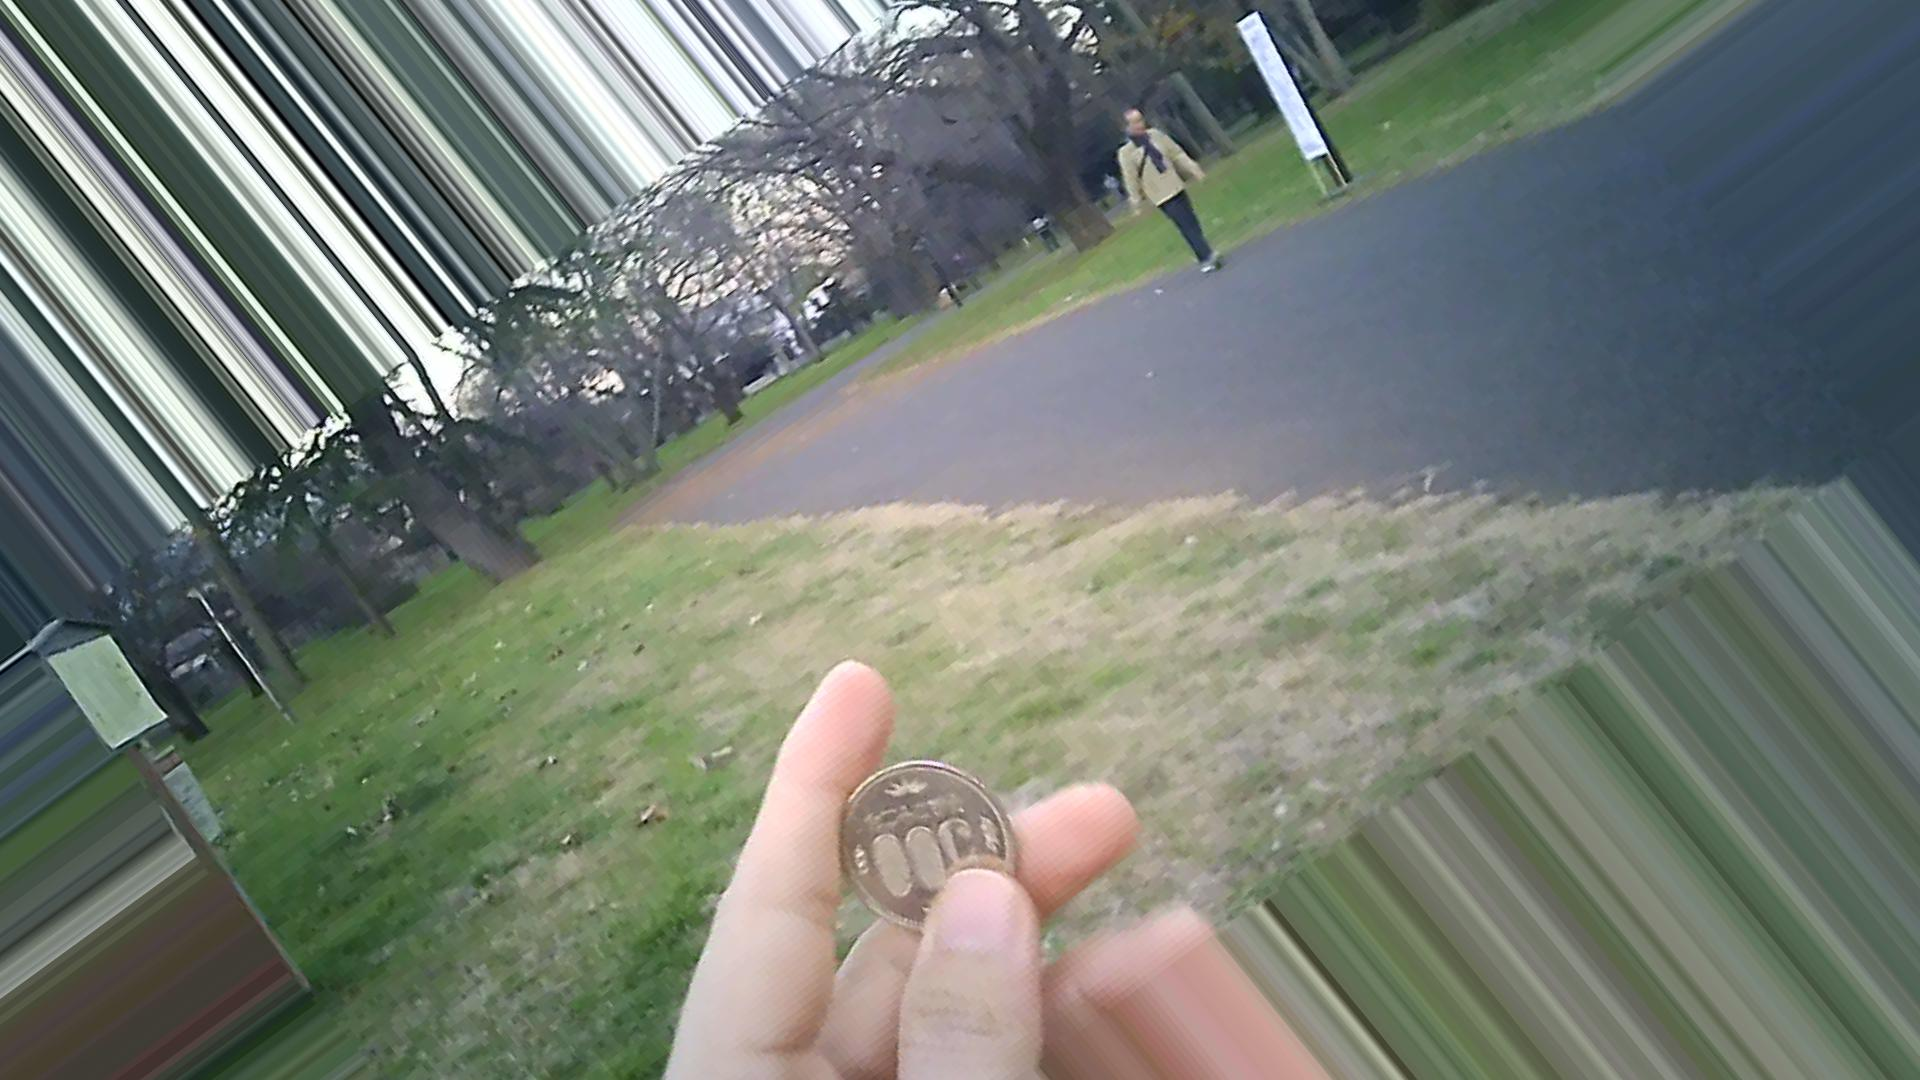500 Yen: (819, 752, 1029, 943)
